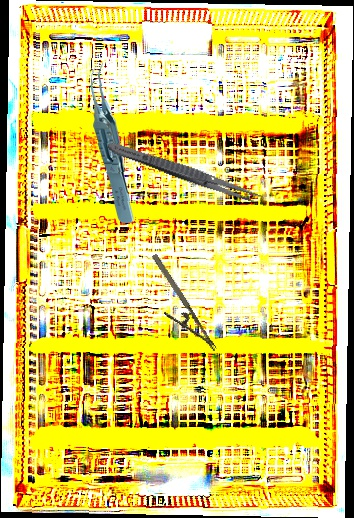Dressing Forceps: (105, 138, 265, 207)
Needle Holder: (135, 252, 218, 363)
Tissue Forceps: (85, 62, 140, 224)
